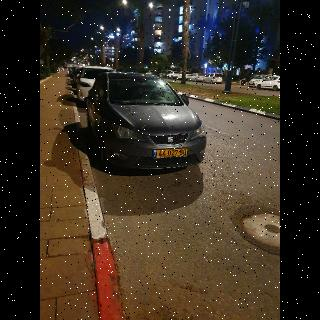LicensePlate: (156, 148, 188, 157)
